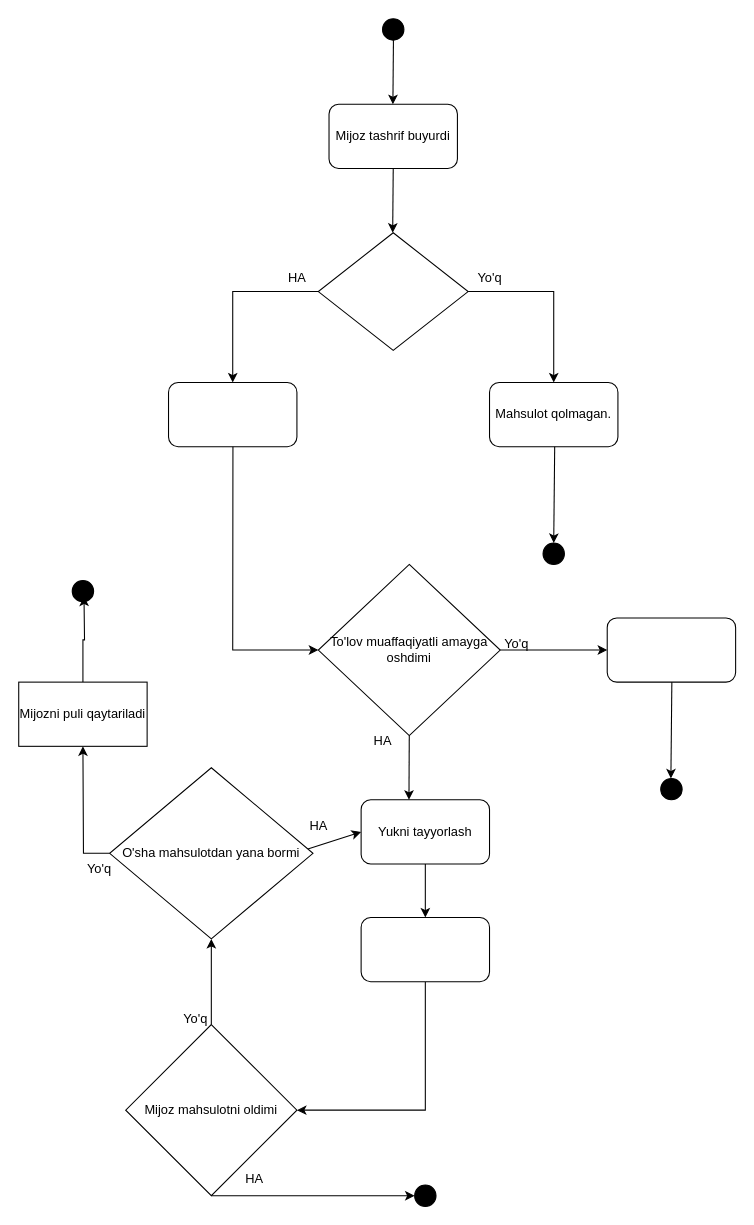
Some shapes in this 754 by 1225 pixel diagram are drawn without their labels. The centre of each missing label's shape, as x and y in pixels:
Hamkorga topshirish: the point at 425,949
Mahsulot borligini tekshirish: the point at 392,291
Mijozga xabar berildi to'lov amalga oshmaganligi haqida: the point at 671,649
To'lovni amalga oshirish: the point at 232,414
